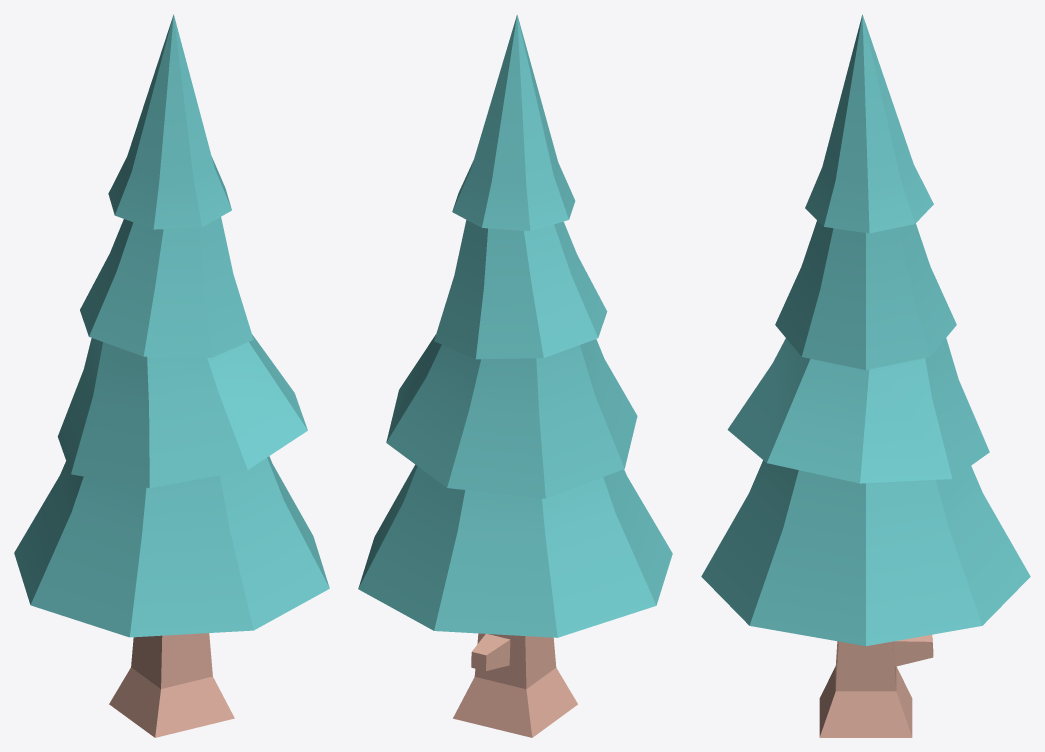
File: tree_pineRoundF.glb
3 views of the same model, side by side, from view 1: azimuth 30°, elevation 25°; view 2: azimuth 150°, elevation 25°; view 3: azimuth 270°, elevation 25° (orthographic).
Visible parts, largest first — view 1: tree_pineRoundF; view 2: tree_pineRoundF; view 3: tree_pineRoundF.
Boxes of the visible parts, bbox=[...] form: tree_pineRoundF: bbox=[14, 14, 329, 737]; tree_pineRoundF: bbox=[358, 14, 672, 737]; tree_pineRoundF: bbox=[701, 14, 1030, 737].
Bounding box in the file's own units: 0.5319 × 1.25 × 0.5319.
